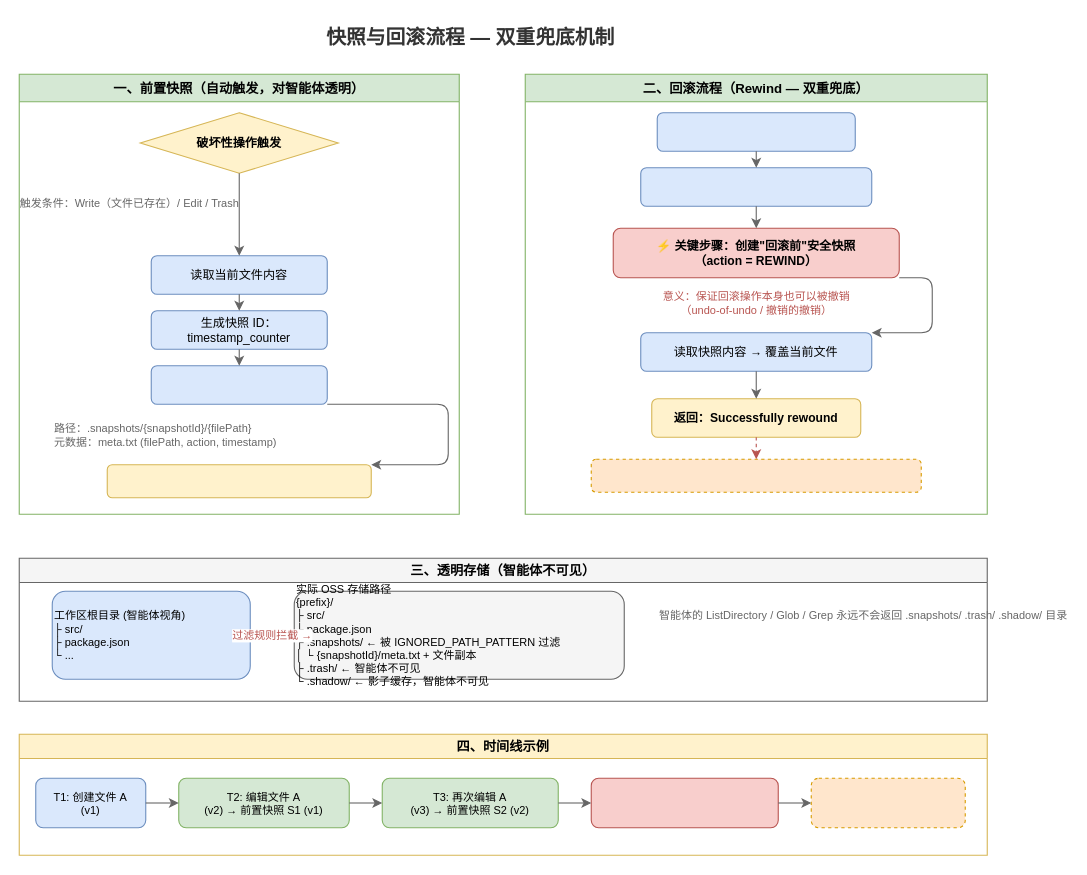
The diagram is 1087 pixels wide and 875 high, and some of its shapes have lost their labels. The centre of each missing label's shape, as x and y in pixels:
T4: Rewind → S2 先创建 S3 (v3, action=REWIND) 再将文件恢复到 v2: (684,802)
T5: 撤销回滚 → Rewind S3: (887,802)
加载快照元数据，校验快照有效性: (756,186)
如果回滚错误 → 再次 Rewind 到"回滚前"快照: (755,475)
存储快照副本 + 元数据: (238,384)
快照创建完成 → 继续执行原操作: (238,481)
调用 Rewind(snapshotId): (755,131)
